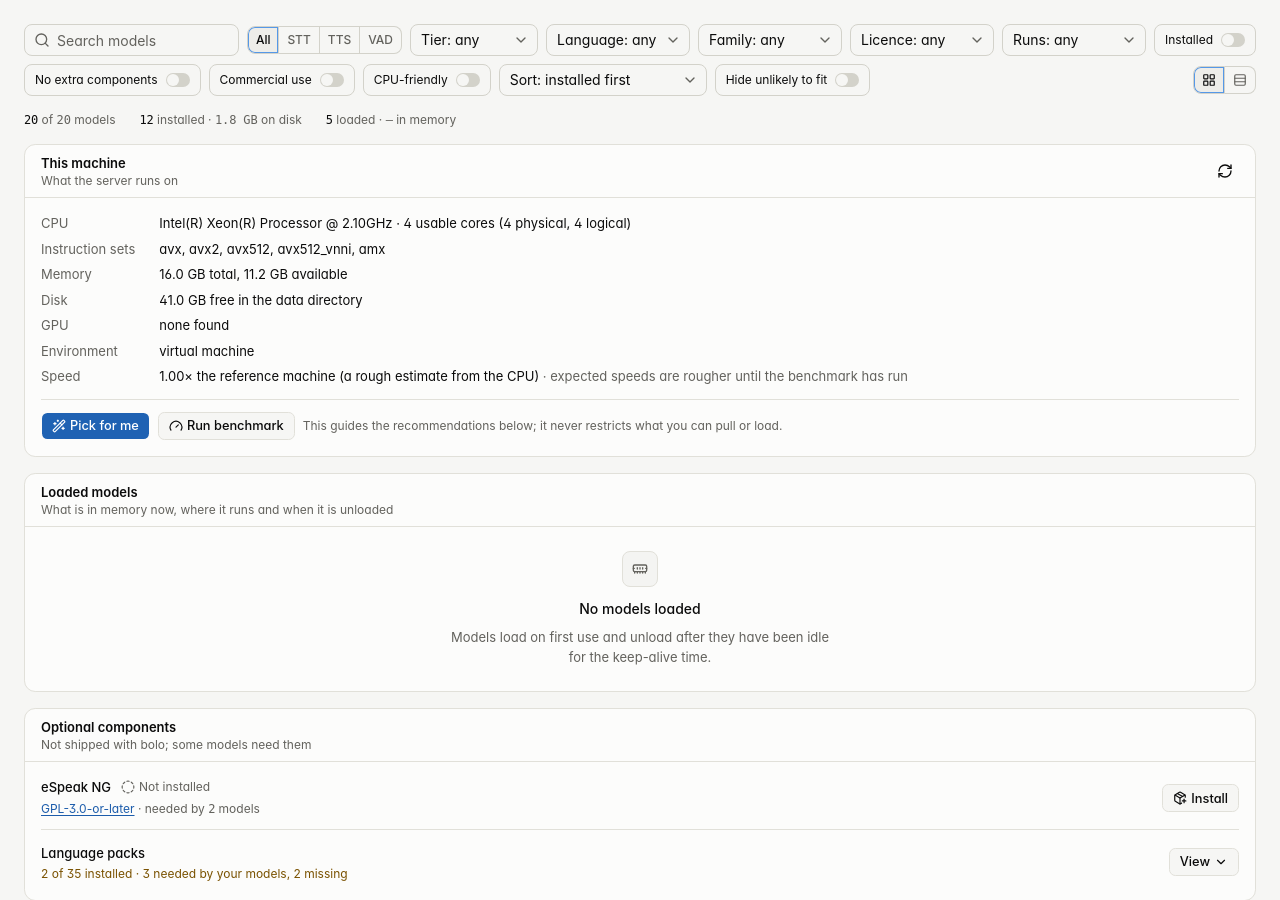
Test: Models page: fit for this machine › hides the unlikely ones only when the labelled toggle is switched on, and says how many
Later steps or results of the test are not shown.
Click the switch with test id "filter-unlikely".
click(847, 80)  # box [835,73,859,87]
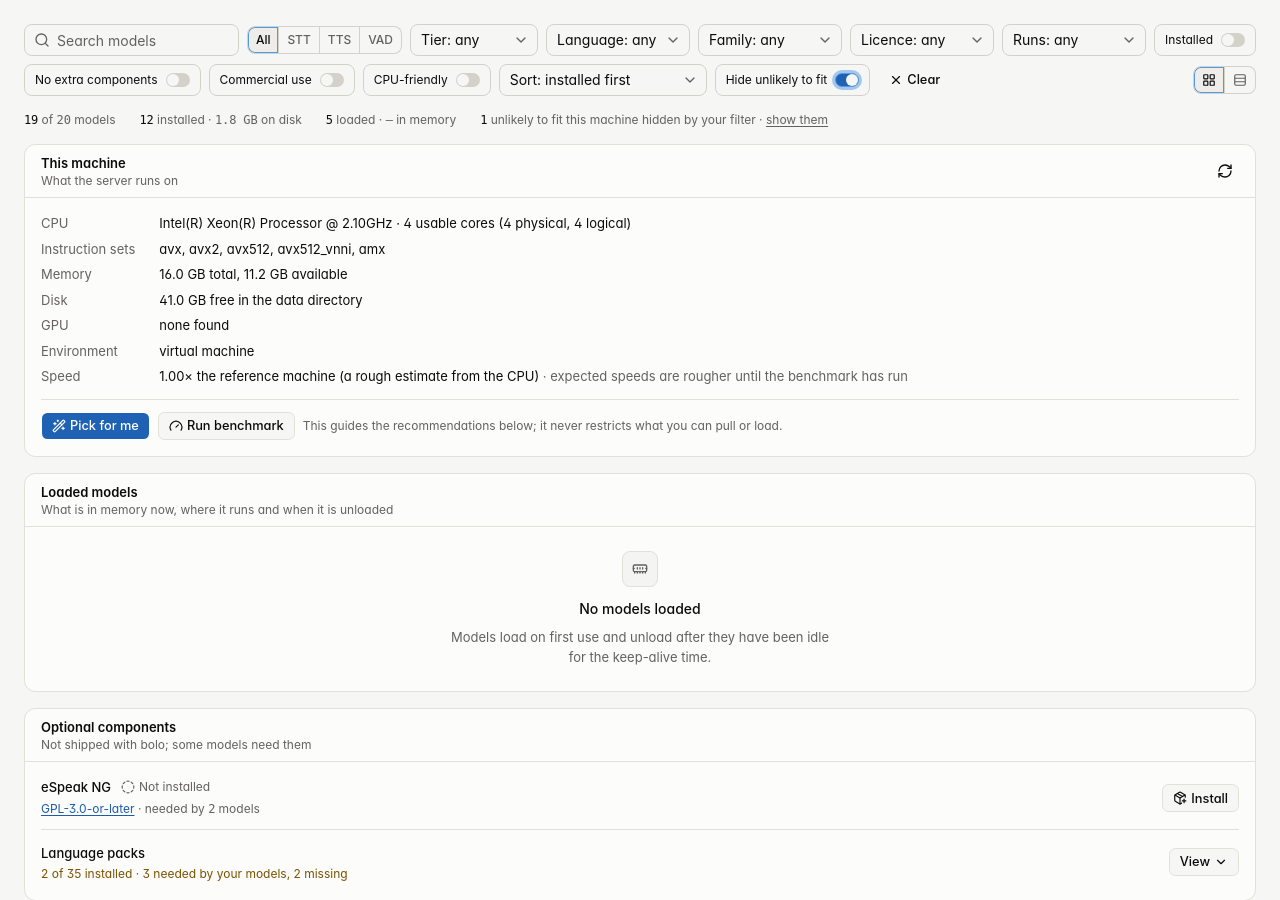
Check: the element with test id "unlikely-hidden" shows "1 unlikely to fit this machine hidden by your filter", box [480,112,828,128]
